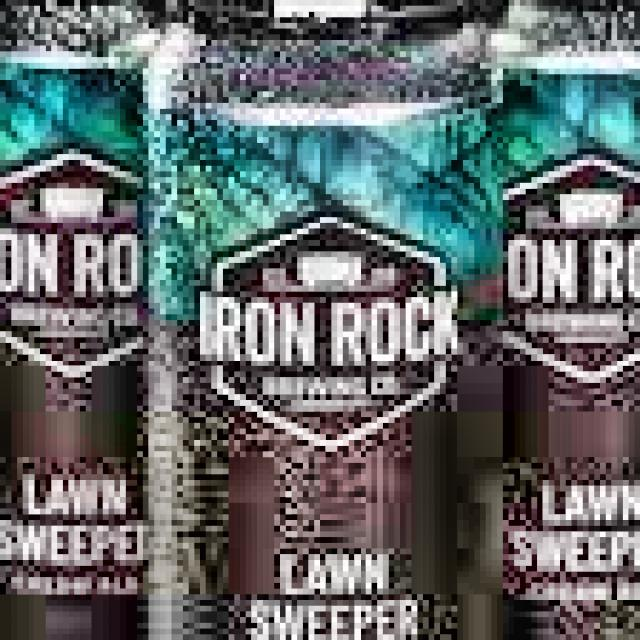metal: (137, 0, 532, 640), (0, 0, 240, 640), (445, 0, 640, 640)
